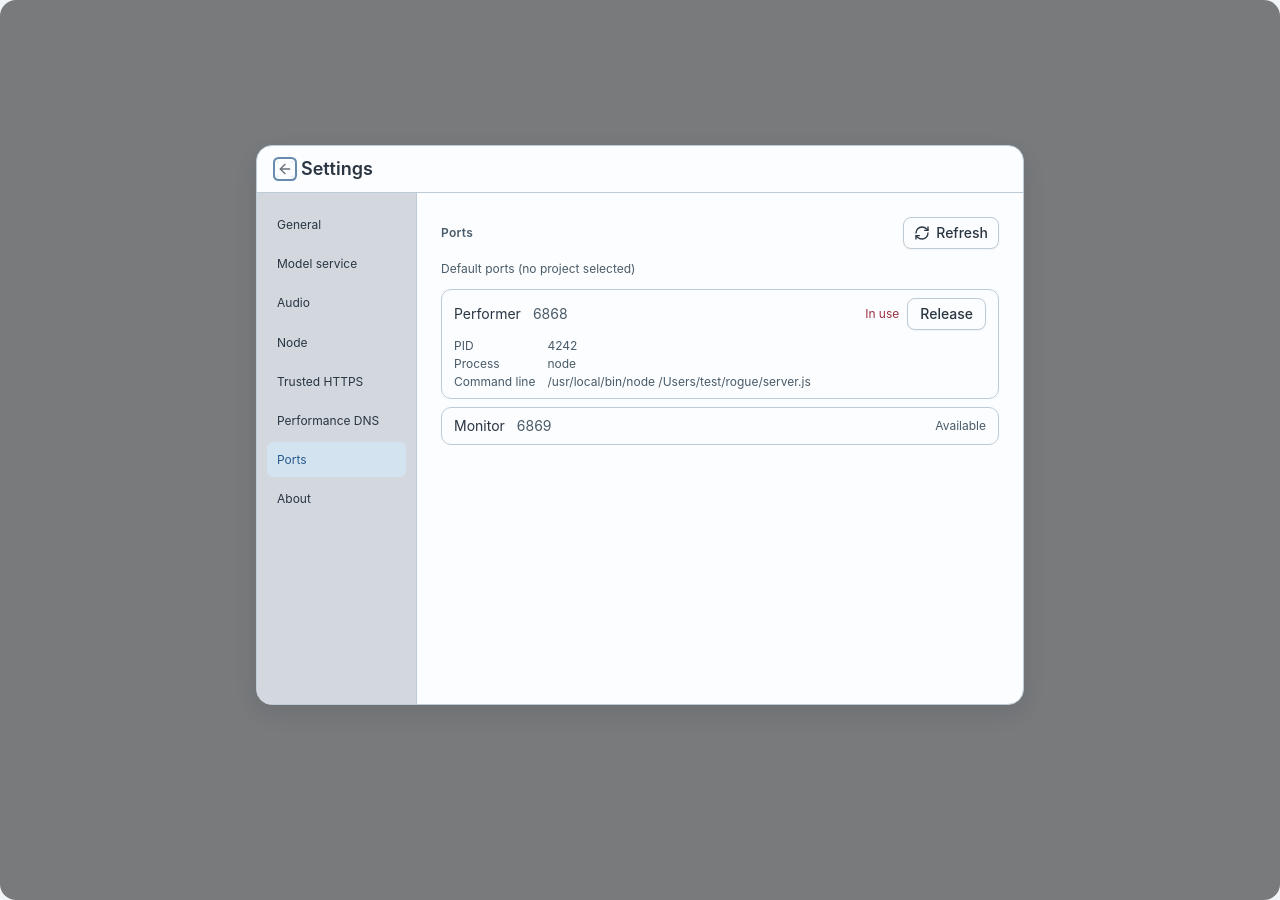
SettingsPanel Ports section (v1.2.0 issue #14) › shows the occupant identity and releases after a full-identity confirm
The width and height of the screenshot is (1280, 900).
Expected: the text with test id "port-in-use" reads "In use", [865,306,899,321]
Expected: the element with test id "port-occupant" shows "4242", [547,338,577,353]
Click the button "Release": (947, 314) [907,298,986,330]
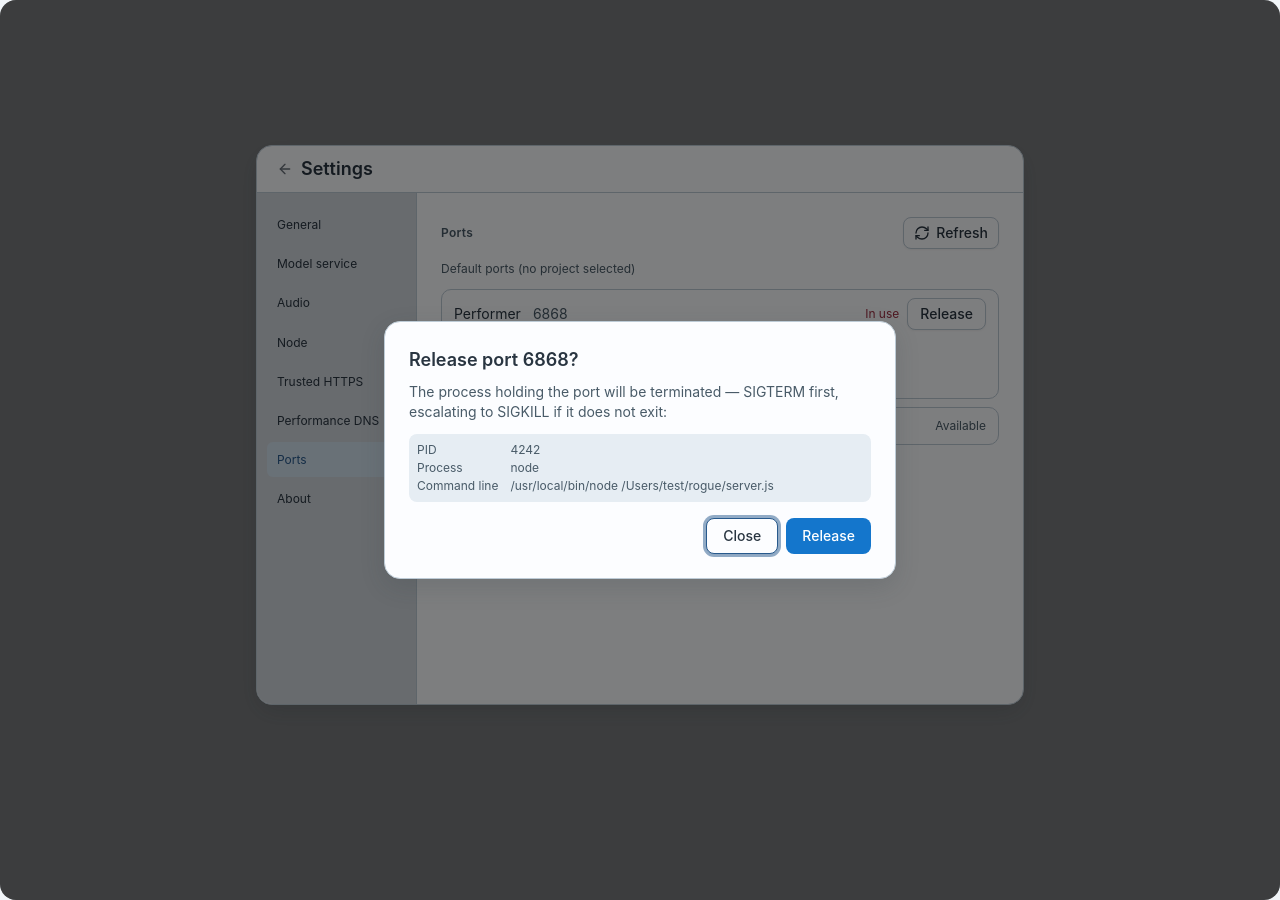
Expected: the dialog that starts with "Release port 6868?" is shown, [409,349,578,370]
Expected: the dialog that starts with "Release port 6868?" shows "4242", [510,442,540,457]
Expected: the dialog that starts with "Release port 6868?" shows "/usr/local/bin/node /Users/test/rogue/server.js", [510,478,774,493]
Click the button "Release": (829, 536) [786,518,871,554]
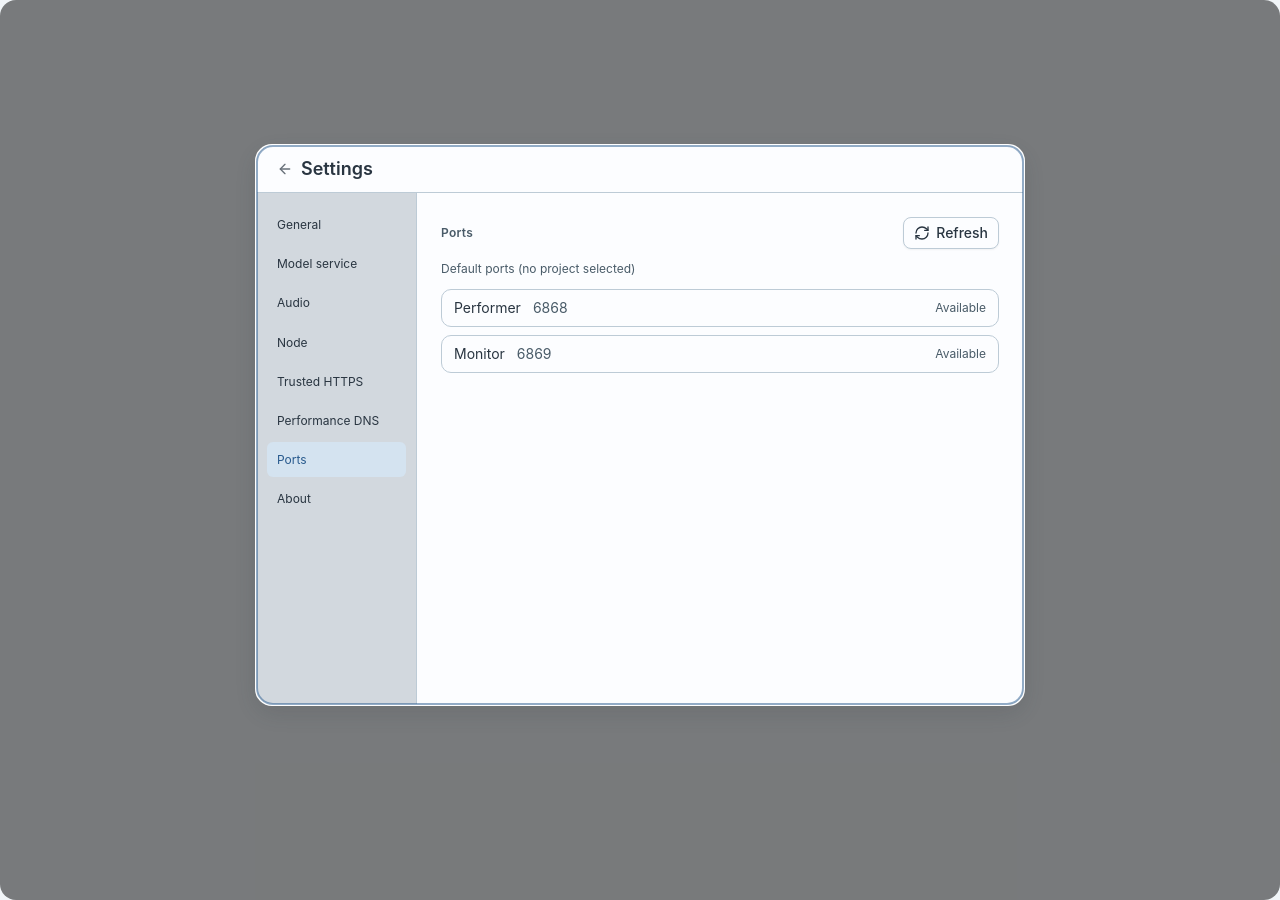
Expected: the number of elements with test id "port-available" is 2, [935,300,986,316]; [935,346,986,362]
Expected: the element with test id "port-occupant" is gone
